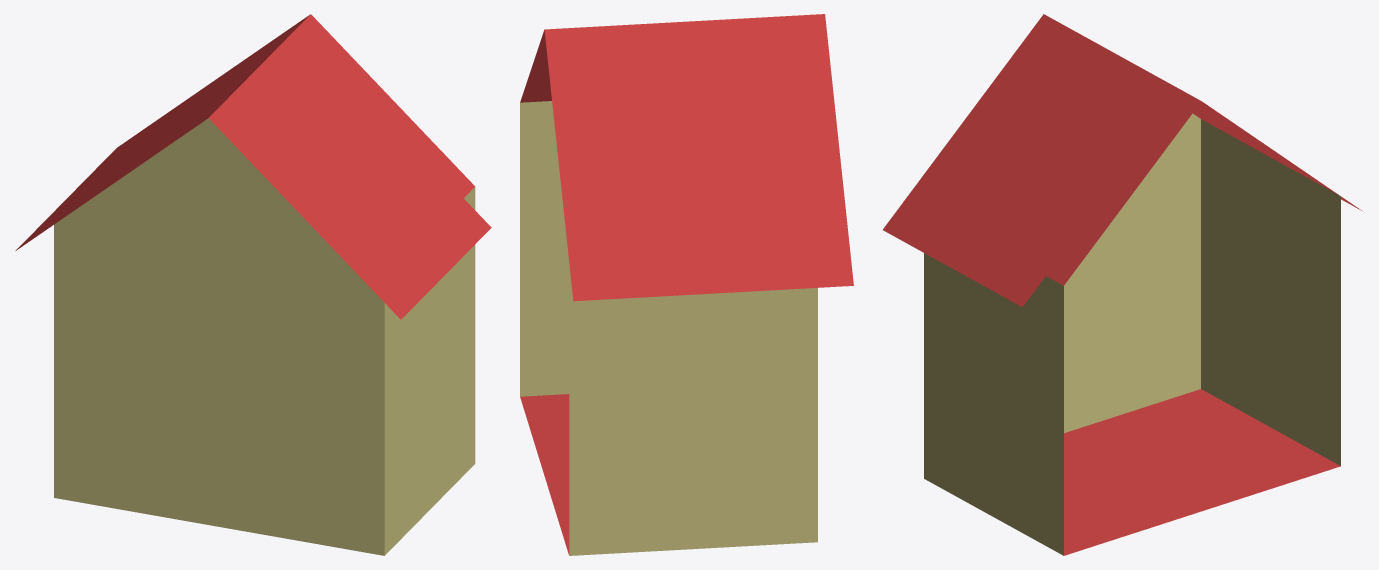
3 views of the same model, side by side, from view 1: azimuth 30°, elevation 25°; view 2: azimuth 150°, elevation 25°; view 3: azimuth 270°, elevation 25° (orthographic). The views are drawn at different scales.
Size of the model in its own units: 14.79 by 16.34 by 15.34.
